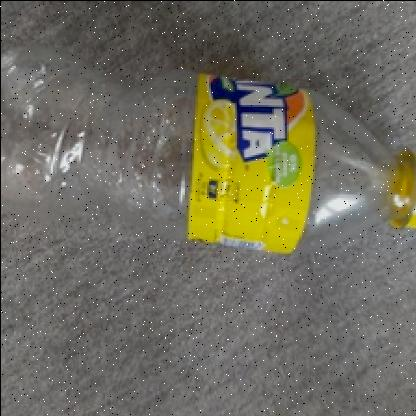Plastic Bottle: (1, 44, 415, 256)
